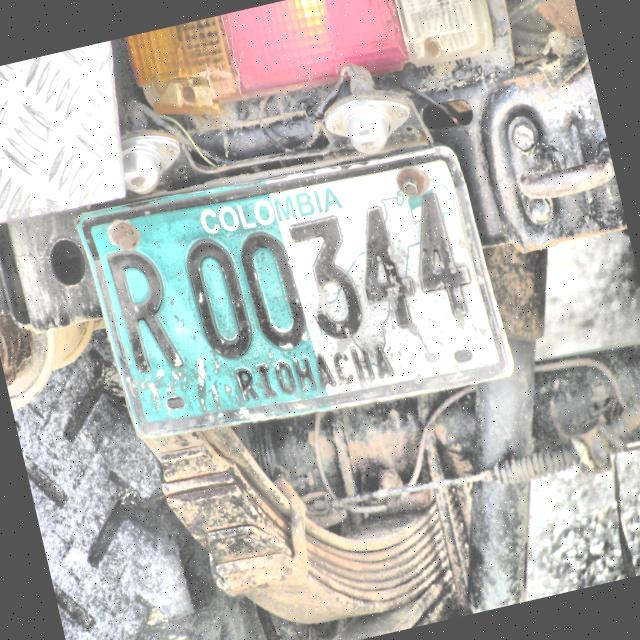0: (232, 220, 316, 358), (176, 230, 259, 367)
3: (286, 208, 372, 349)
4: (343, 197, 426, 341), (398, 186, 481, 326)
R: (101, 239, 190, 380)
